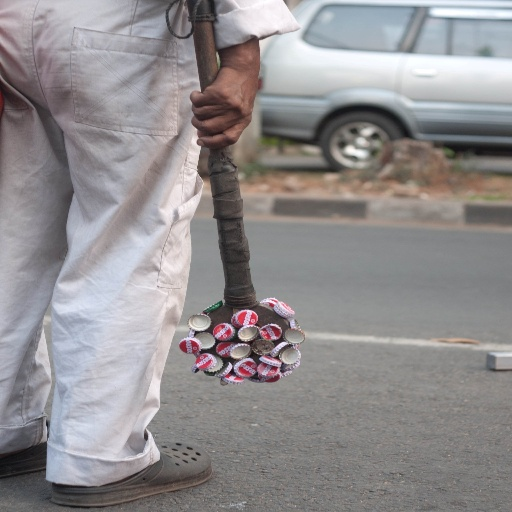hand: (183, 19, 268, 143)
